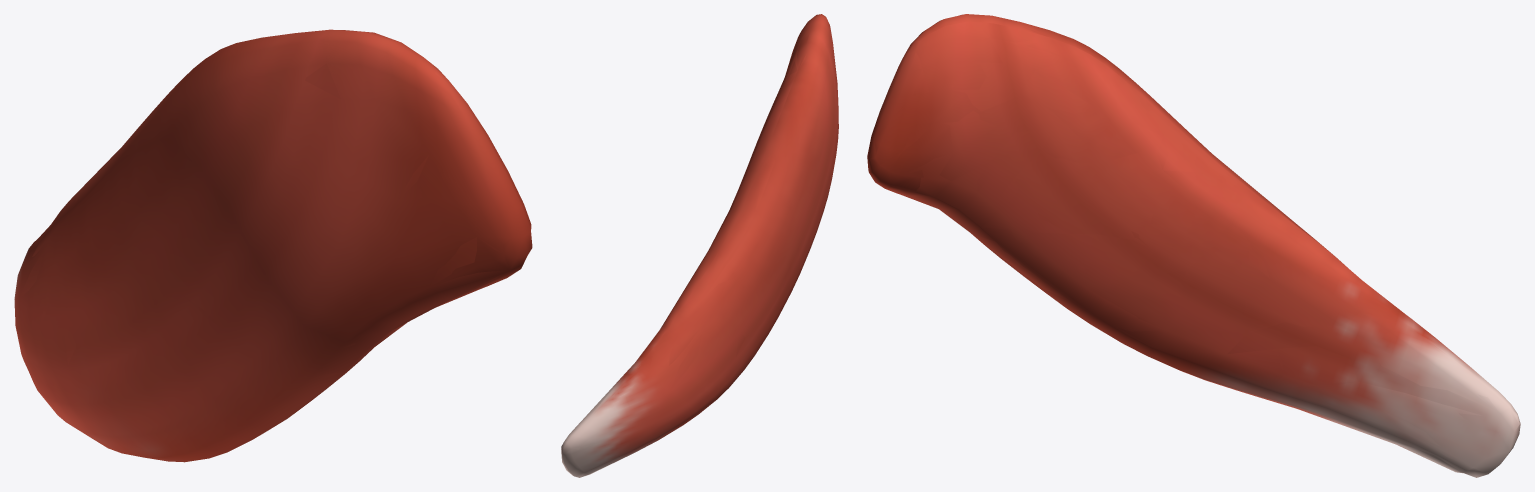
Rendered from R Triceps Brachii Lateral Head.fbx.
The picture shows the model from 3 angles, left to right: view 1: azimuth 30°, elevation 25°; view 2: azimuth 150°, elevation 25°; view 3: azimuth 270°, elevation 25°; orthographic projection. The views are drawn at different scales.
Parts seen in each view (by area): view 1: R Triceps Brachii Lateral Head, R Triceps Brachii Lateral Head low; view 2: R Triceps Brachii Lateral Head, R Triceps Brachii Lateral Head low; view 3: R Triceps Brachii Lateral Head low, R Triceps Brachii Lateral Head.
Part boxes in pixels (x1,y1,x2,y2): R Triceps Brachii Lateral Head: (14,29,532,462); R Triceps Brachii Lateral Head low: (14,30,531,455); R Triceps Brachii Lateral Head: (561,14,838,477); R Triceps Brachii Lateral Head low: (562,16,833,477); R Triceps Brachii Lateral Head low: (868,19,1519,476); R Triceps Brachii Lateral Head: (867,14,1520,477).
Size of the model in its own units: 3.07 by 9.84 by 13.45.
